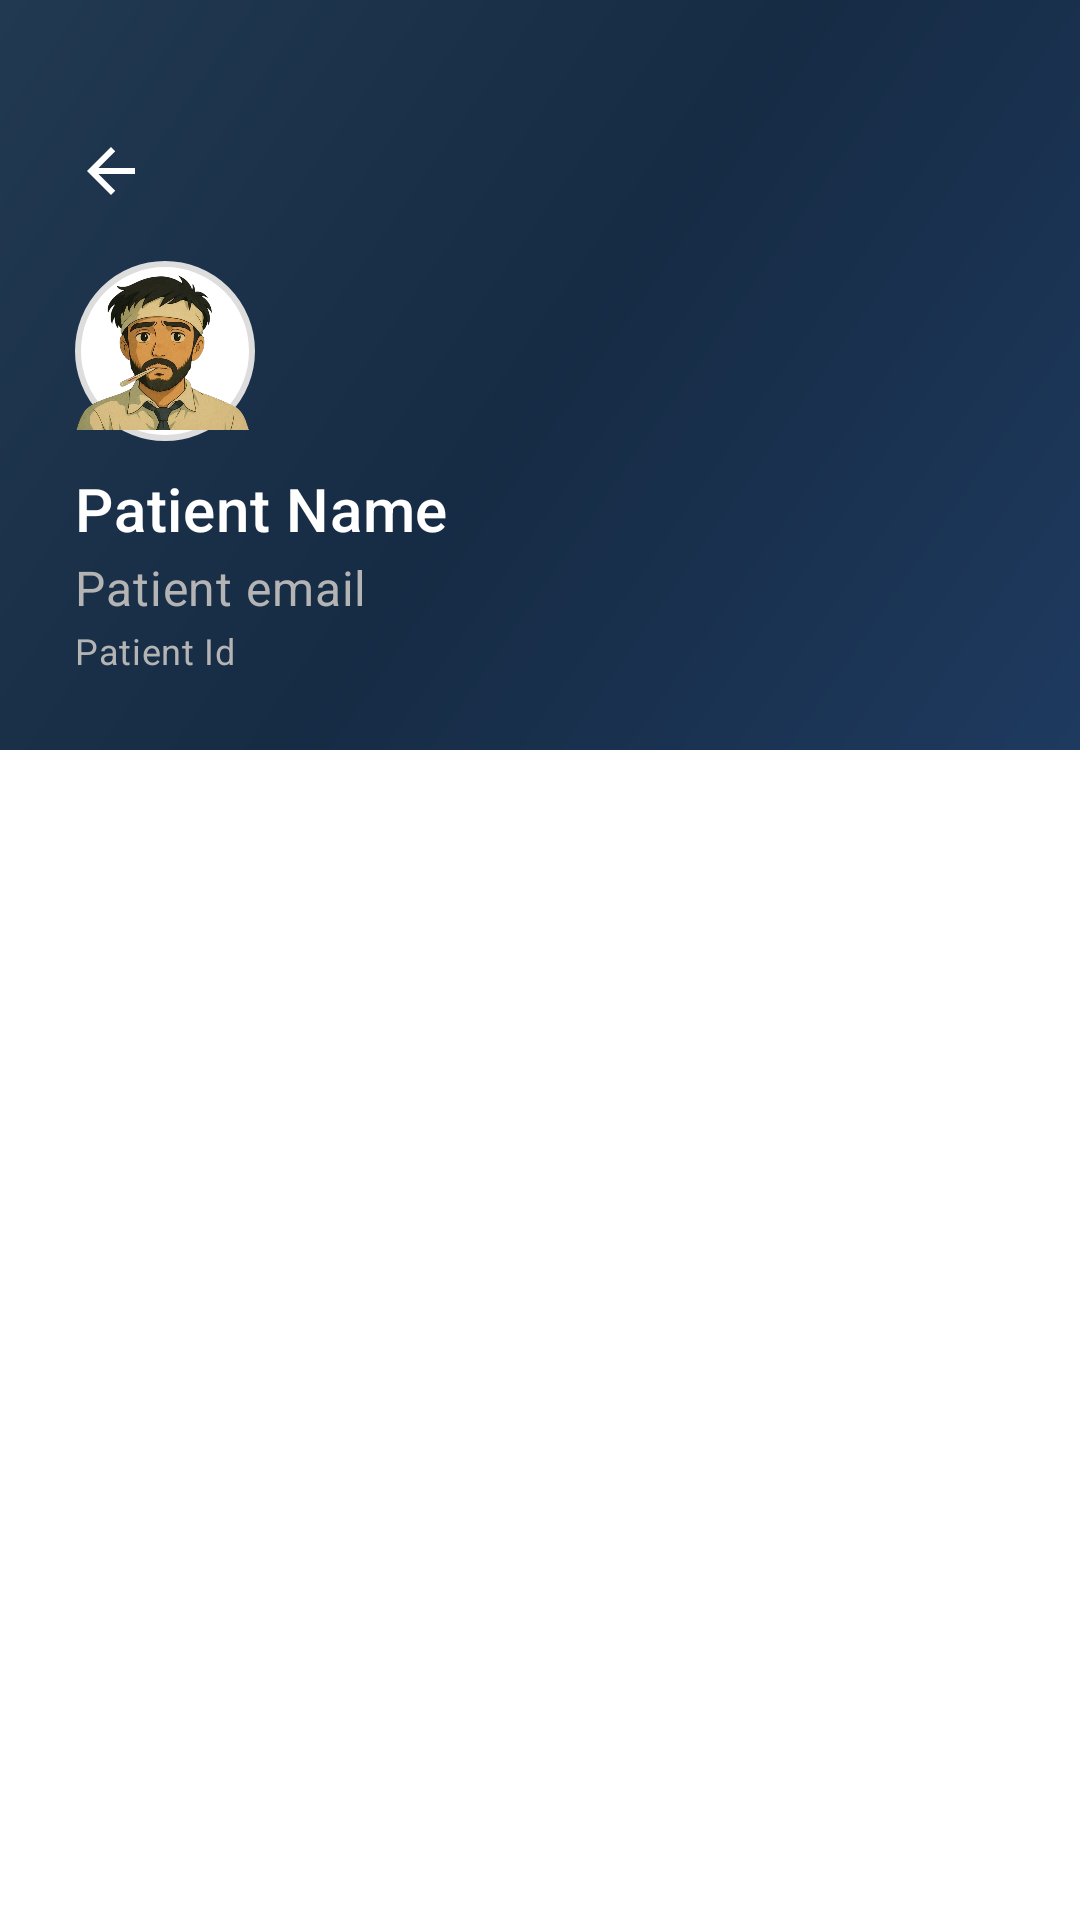

Icons on this 1080 x 1920 Android screen, each with its box as (x1, y1, x2, y2):
back: (87, 147, 135, 195)
Patients's photo: (75, 261, 255, 441)
